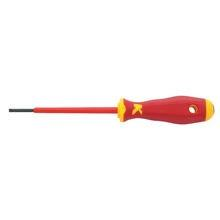screwdriver: (8, 95, 214, 123)
